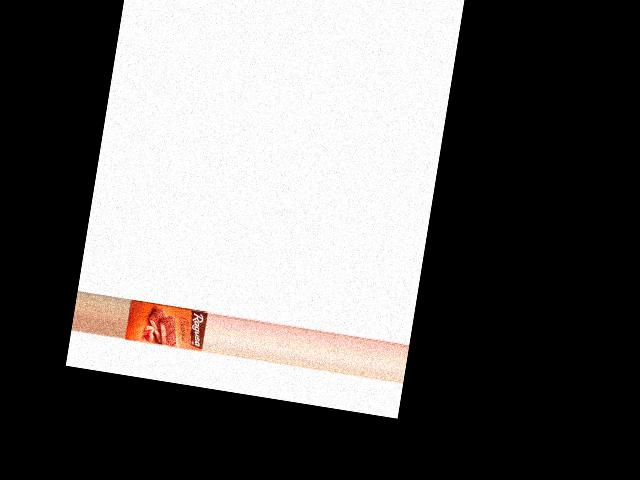chocolate: (123, 297, 207, 356)
